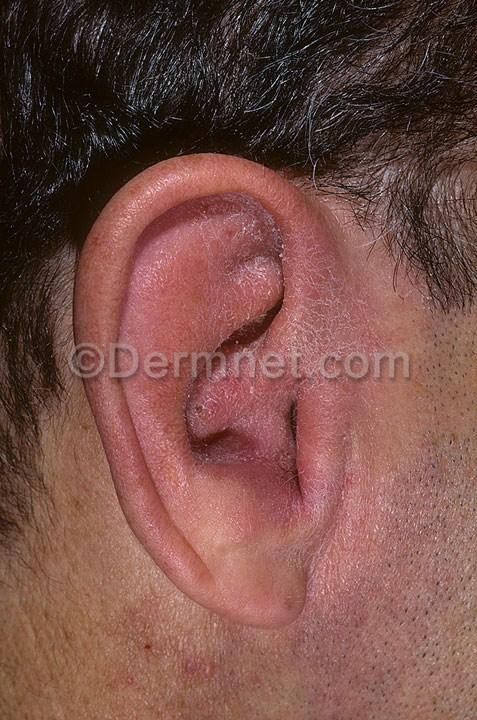Eczema: (127, 367, 193, 445), (127, 279, 190, 357), (326, 524, 395, 592), (116, 208, 181, 276), (353, 470, 423, 533), (79, 316, 133, 391), (181, 262, 248, 322), (109, 599, 169, 666), (190, 195, 249, 262), (212, 642, 286, 695), (307, 376, 357, 452), (420, 454, 470, 527), (115, 444, 162, 520), (288, 238, 355, 290), (283, 616, 330, 689), (304, 446, 362, 505), (318, 288, 371, 351), (141, 679, 222, 720), (317, 596, 370, 655), (242, 229, 287, 297), (254, 190, 322, 233), (167, 624, 219, 679), (83, 252, 129, 314), (149, 167, 215, 210), (250, 395, 295, 457), (150, 452, 202, 504), (95, 660, 150, 704), (201, 376, 253, 421), (254, 337, 292, 398), (216, 155, 263, 204), (282, 504, 338, 545), (196, 464, 258, 500), (139, 526, 188, 571), (101, 406, 142, 453), (288, 300, 315, 368), (180, 546, 216, 592), (261, 464, 305, 501)
